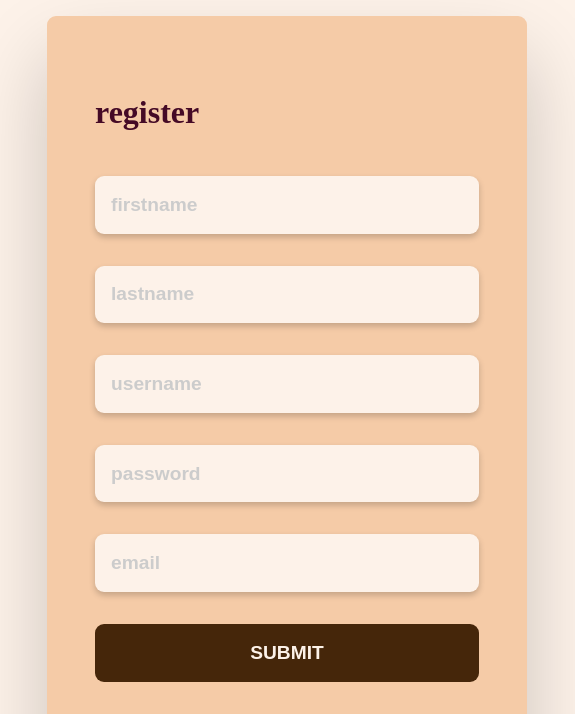
renders register page › form doesn't submit when all inputs are not filled
Type "john" into the field with placeholder "firstname" at x=287, y=205, box x1=95 y1=176 x2=479 y2=234
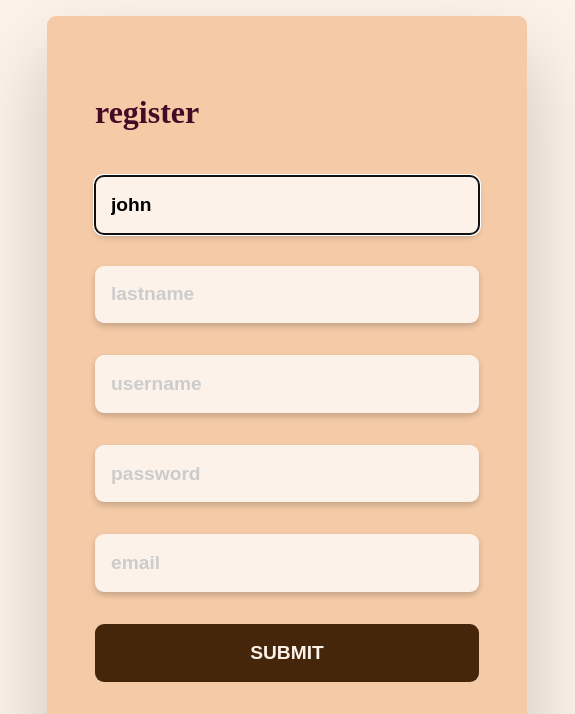
Type "smith" into the field with placeholder "lastname" at x=287, y=294, box x1=95 y1=266 x2=479 y2=323
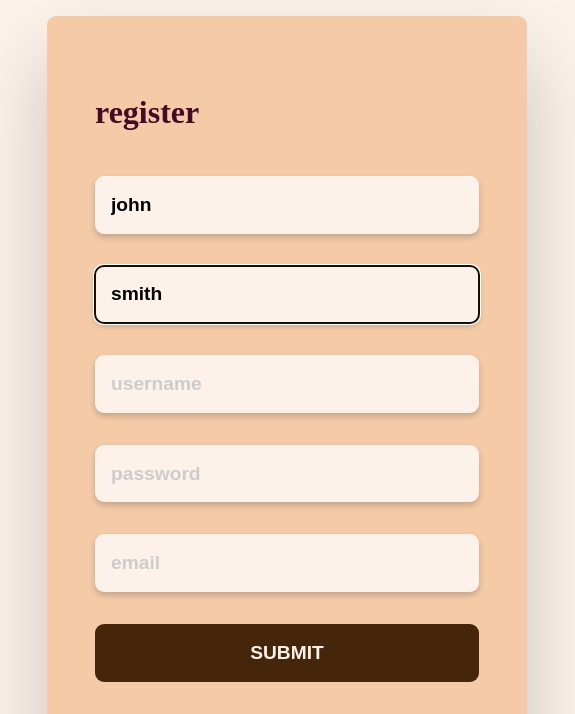
Type "john123" into the field with placeholder "username" at x=287, y=384, box x1=95 y1=355 x2=479 y2=413
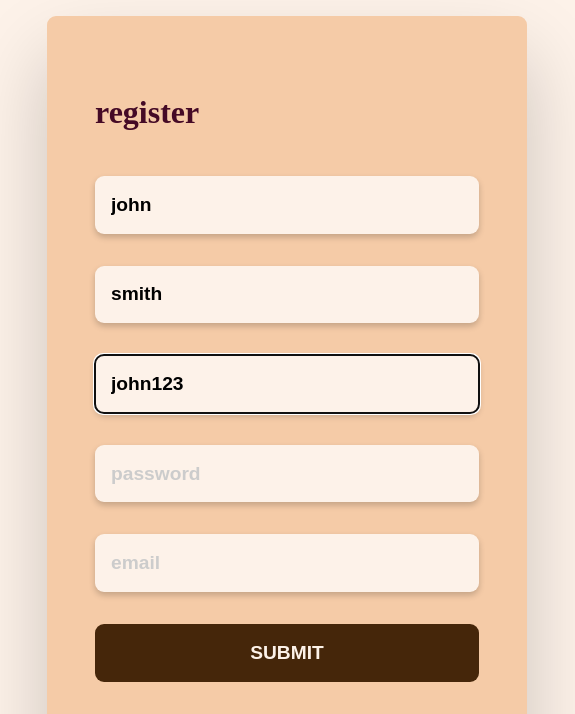
Type "pass" into the password field with placeholder "password" at x=287, y=474, box x1=95 y1=445 x2=479 y2=502
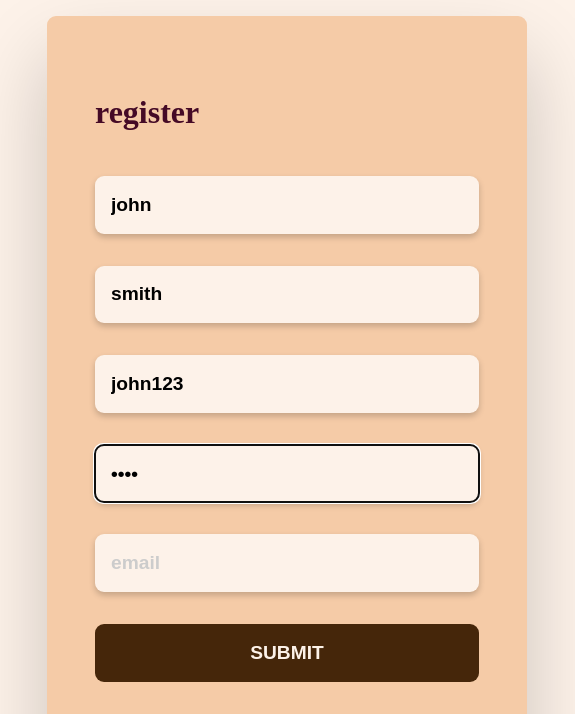
Click the button "submit" at x=287, y=653, box x1=95 y1=624 x2=479 y2=682
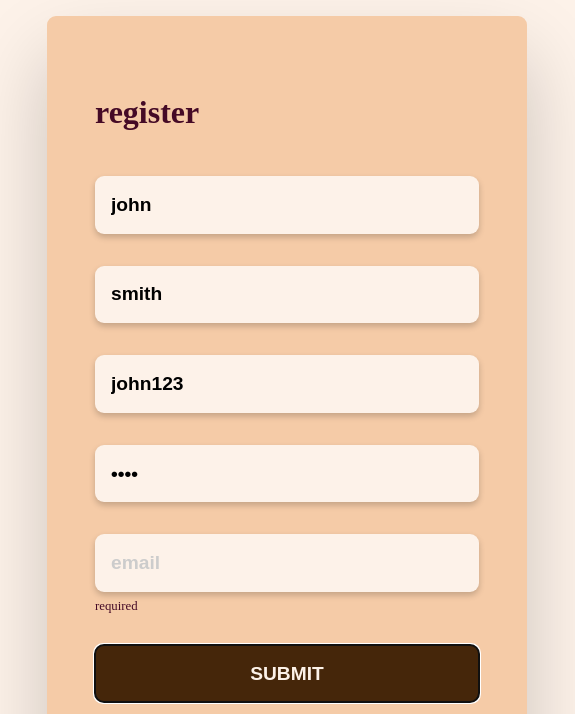
Expected: the text "required" is shown, x1=95 y1=599 x2=138 y2=613
